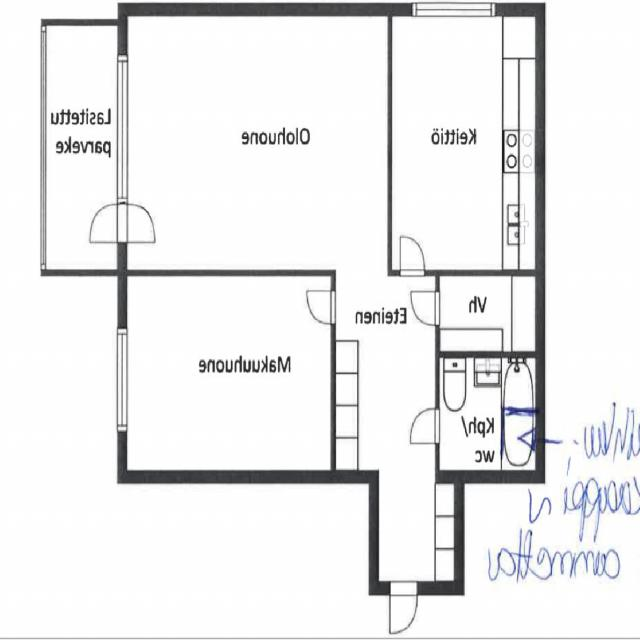door: (390, 581, 418, 633), (118, 204, 156, 242), (90, 204, 128, 242), (306, 290, 336, 325), (412, 409, 441, 443), (401, 235, 425, 275), (411, 291, 440, 324)
